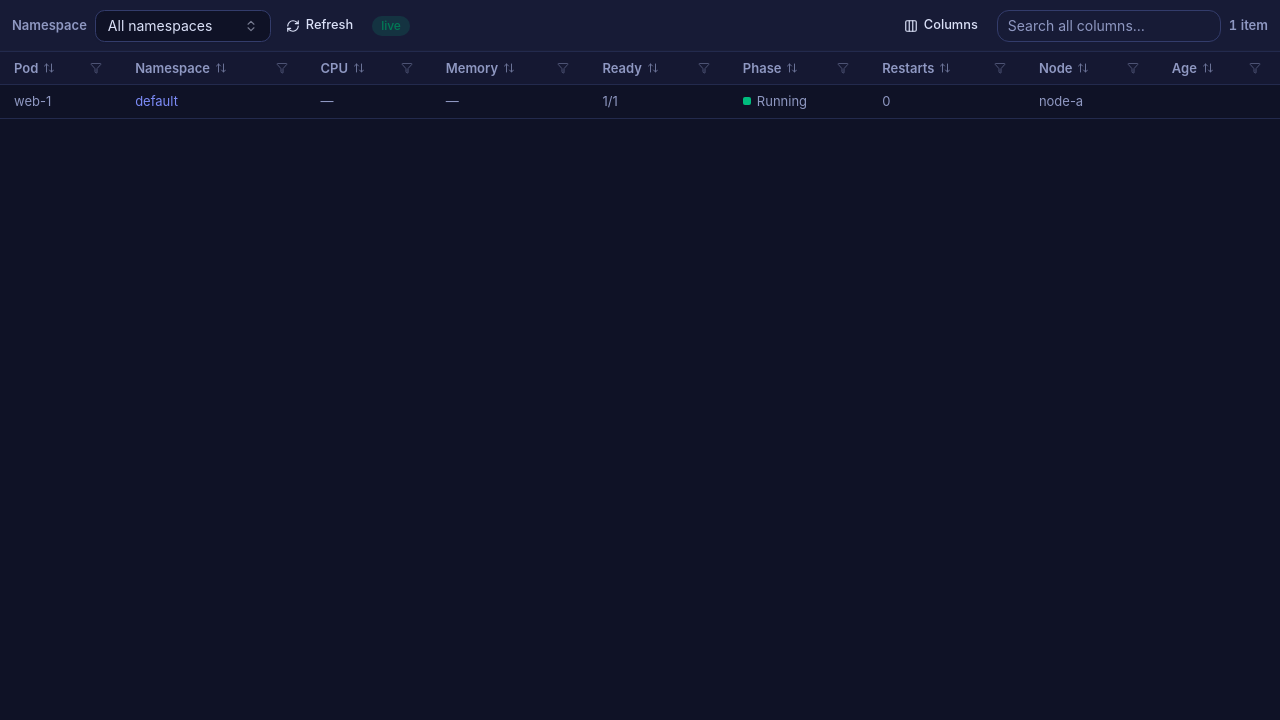
Test case: ResourceBrowser › opens the pod detail drawer when a pod row is clicked
Click the text "web-1" at (33, 101), box [14,93,51,109]
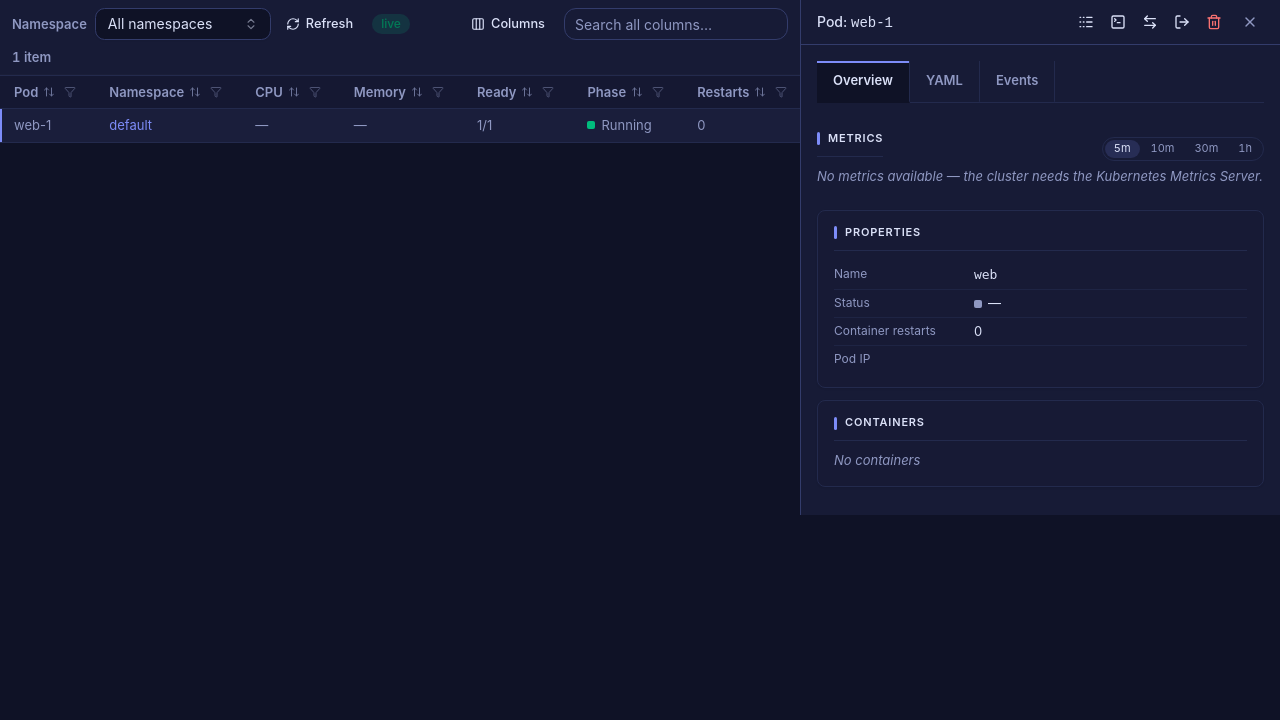
Check: the button named "Shell" is shown, box [1104,8,1132,36]
Check: the button named "Logs" is shown, box [1072,8,1100,36]
Check: the element named "Details" is shown, box [800,0,1279,515]
